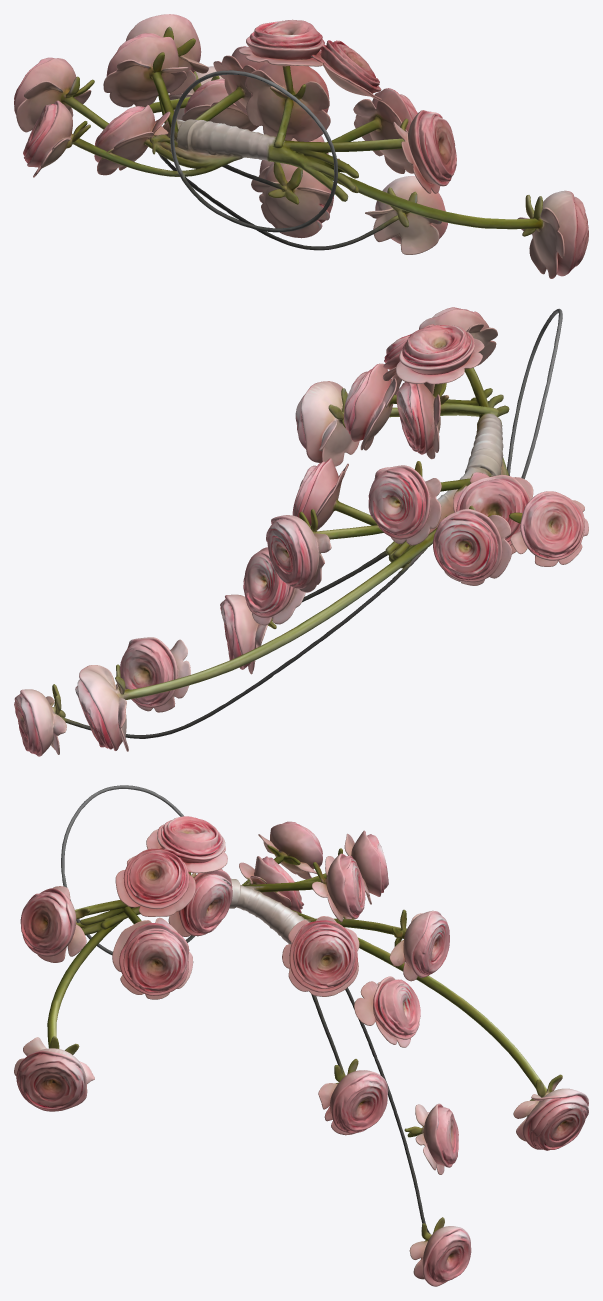
Rendered from crescent__ranunculus-pink.glb.
3 views of the same model, one above another, from view 1: azimuth 30°, elevation 25°; view 2: azimuth 150°, elevation 25°; view 3: azimuth 270°, elevation 25° (orthographic). The views are drawn at different scales.
Parts seen in each view (by area): view 1: tripo_node_b9b02557-8db8-44d2-b80c-080fcde96efc; view 2: tripo_node_b9b02557-8db8-44d2-b80c-080fcde96efc; view 3: tripo_node_b9b02557-8db8-44d2-b80c-080fcde96efc.
Boxes of the visible parts, <box> form: tripo_node_b9b02557-8db8-44d2-b80c-080fcde96efc: <box>14,14,588,278</box>; tripo_node_b9b02557-8db8-44d2-b80c-080fcde96efc: <box>14,307,588,756</box>; tripo_node_b9b02557-8db8-44d2-b80c-080fcde96efc: <box>14,785,588,1286</box>.
Size of the model in its own units: 0.8731 by 0.6661 by 1.
Materials: 1 (1 with a texture image).
